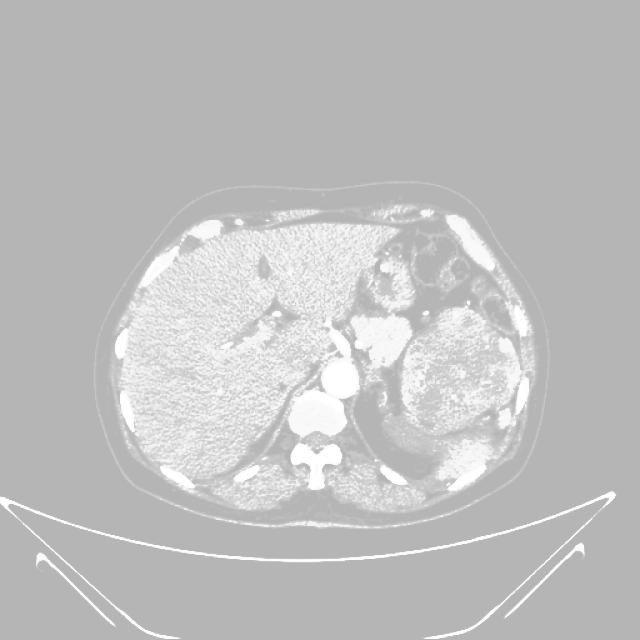TUMOR: (347, 268, 572, 485)
